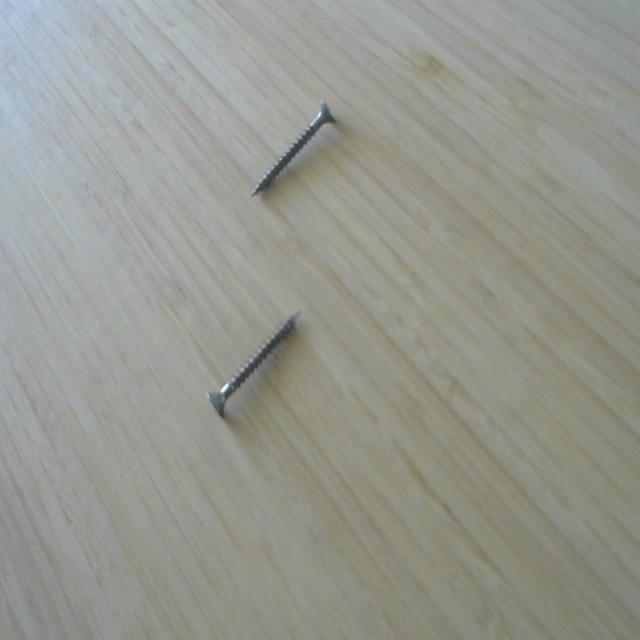Black screw: (197, 303, 307, 429), (242, 92, 342, 208)
